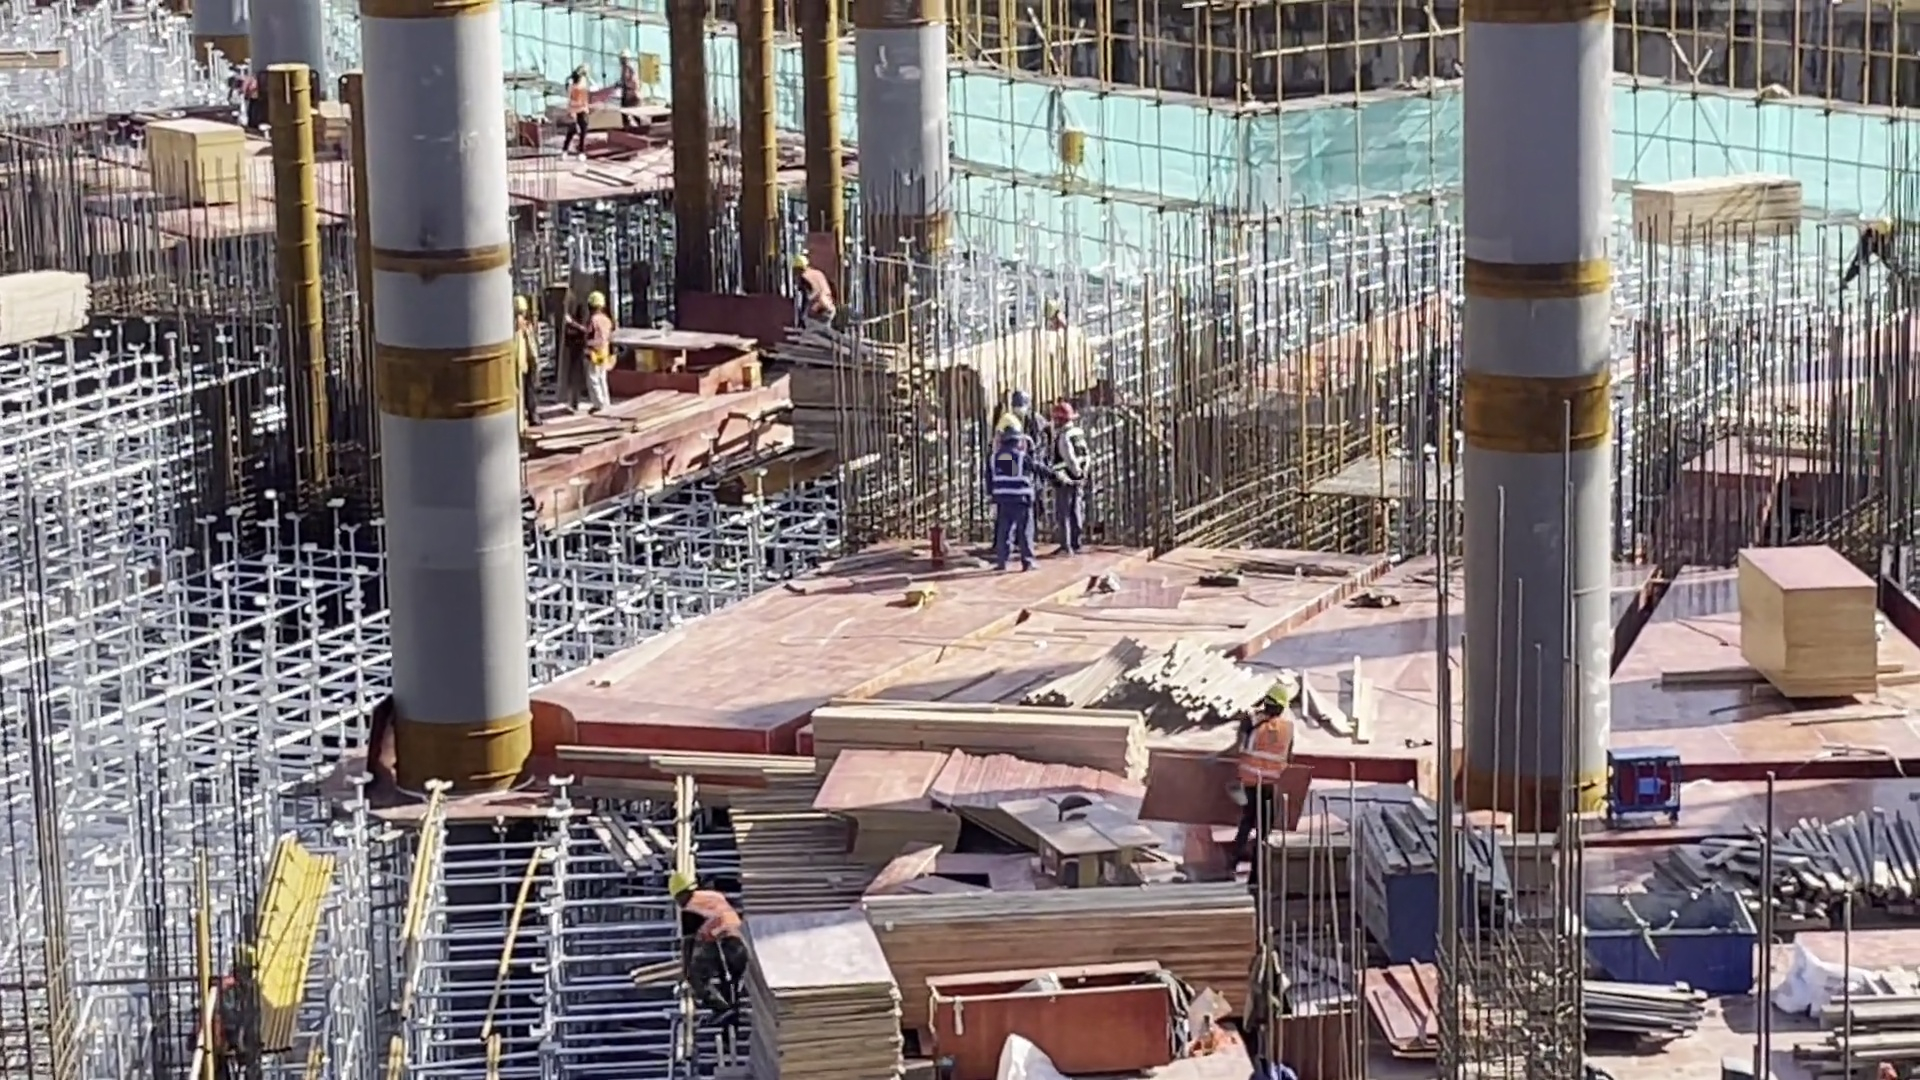board: (752, 906, 893, 1080), (1739, 541, 1881, 704), (814, 749, 949, 883), (145, 123, 246, 212), (1361, 961, 1443, 1064)
cutter: (1001, 790, 1166, 885), (607, 328, 754, 400)
ebox: (1059, 123, 1088, 186), (637, 51, 663, 95)
helmet: (670, 876, 697, 901), (1050, 400, 1075, 424), (1263, 685, 1291, 706), (787, 252, 812, 271), (994, 427, 1021, 446), (586, 291, 606, 309), (509, 296, 529, 308)
hopper: (1568, 883, 1745, 992)
person: (1229, 683, 1299, 858), (668, 874, 751, 1019), (982, 415, 1041, 567), (1835, 210, 1920, 294), (210, 958, 268, 1080), (1047, 400, 1089, 553), (567, 289, 611, 411), (507, 291, 541, 429), (786, 254, 833, 321), (564, 64, 591, 154), (611, 43, 641, 121)
vest: (682, 889, 743, 969), (1242, 723, 1295, 794), (985, 448, 1033, 514), (1053, 430, 1087, 493), (578, 315, 614, 368), (800, 270, 834, 320), (512, 326, 540, 380)
wood: (1643, 807, 1920, 943), (1018, 631, 1370, 738), (870, 892, 1266, 971), (808, 695, 1145, 759), (765, 325, 913, 462), (944, 326, 1087, 428), (1627, 171, 1803, 245), (1799, 975, 1920, 1080), (1, 260, 93, 348)
